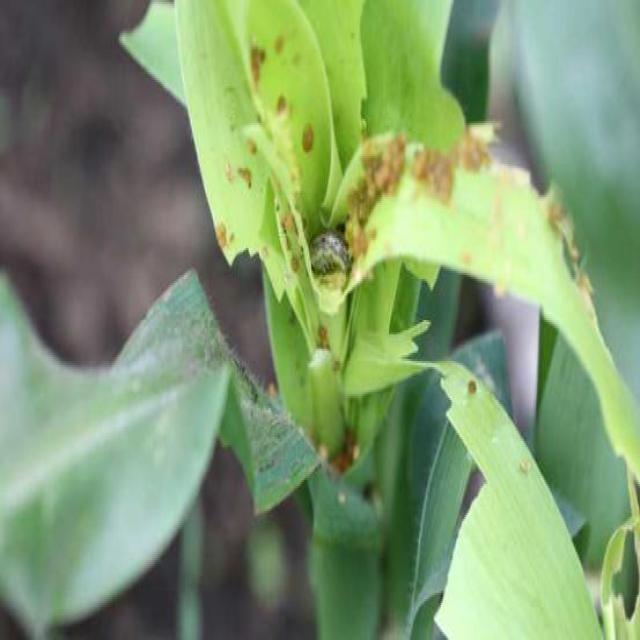pest: (303, 221, 360, 285)
